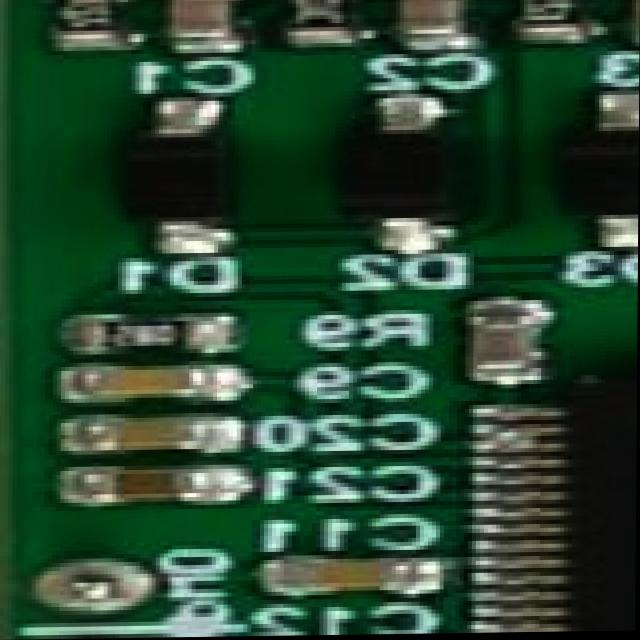IC: (516, 349, 638, 634)
capacitor: (75, 465, 237, 507), (269, 559, 417, 597), (464, 317, 558, 375), (64, 370, 206, 407), (83, 418, 206, 451), (160, 0, 248, 42), (392, 0, 476, 35), (628, 0, 640, 33)
diode: (325, 107, 467, 246), (110, 121, 243, 259), (555, 113, 639, 242)
resistor: (94, 317, 222, 363), (280, 0, 364, 45), (44, 0, 128, 39), (504, 0, 592, 30)
